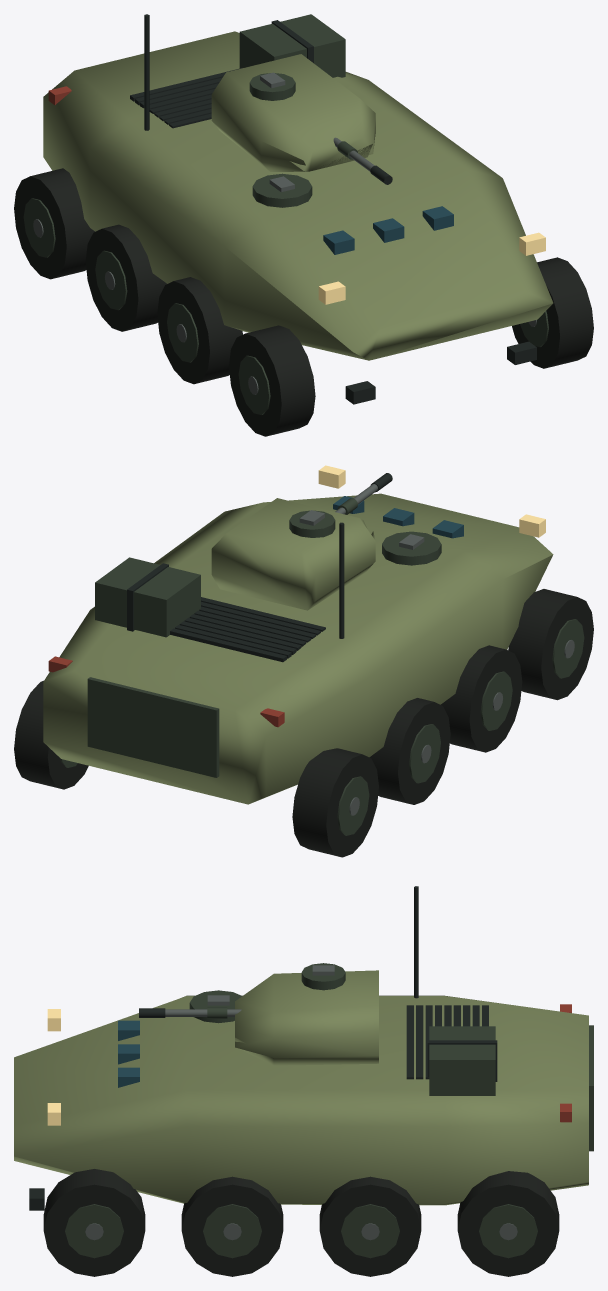
File: apc.glb
3 renders of one model, top to bottom at view 1: azimuth 30°, elevation 25°; view 2: azimuth 150°, elevation 25°; view 3: azimuth 270°, elevation 25°, orthographic. The views are drawn at different scales.
Visible parts, largest first — view 1: armor (×2), rubber, trim (×2), dark, stowage, glass, lamp, steel; view 2: armor (×2), rubber, trim (×2), dark, stowage, glass, lamp, steel, red; view 3: armor (×2), rubber, trim (×2), stowage, dark, steel, glass, lamp.
Boxes of the visible parts, x1,y1,x2,y2 form: armor (×2): (43,31,553,360); rubber: (14,168,593,436); trim (×2): (23,73,548,414); dark: (130,14,536,404); stowage: (239,14,345,77); glass: (323,206,453,254); lamp: (318,232,545,304); steel: (33,176,536,394); armor (×2): (43,493,553,804); rubber: (14,589,593,857); trim (×2): (60,510,584,835); dark: (127,522,344,662); stowage: (95,557,200,637); glass: (333,496,463,538); lamp: (318,465,545,537); steel: (349,534,574,815); red: (48,656,284,727); armor (×2): (14,970,588,1205); rubber: (43,1169,559,1276); trim (×2): (65,963,593,1258); stowage: (429,1026,495,1095); dark: (29,886,497,1210); steel: (85,995,517,1240); glass: (118,1020,139,1087); lamp: (47,1009,60,1125).
Size of the model in its own units: 3.19 by 2.7 by 5.24.
